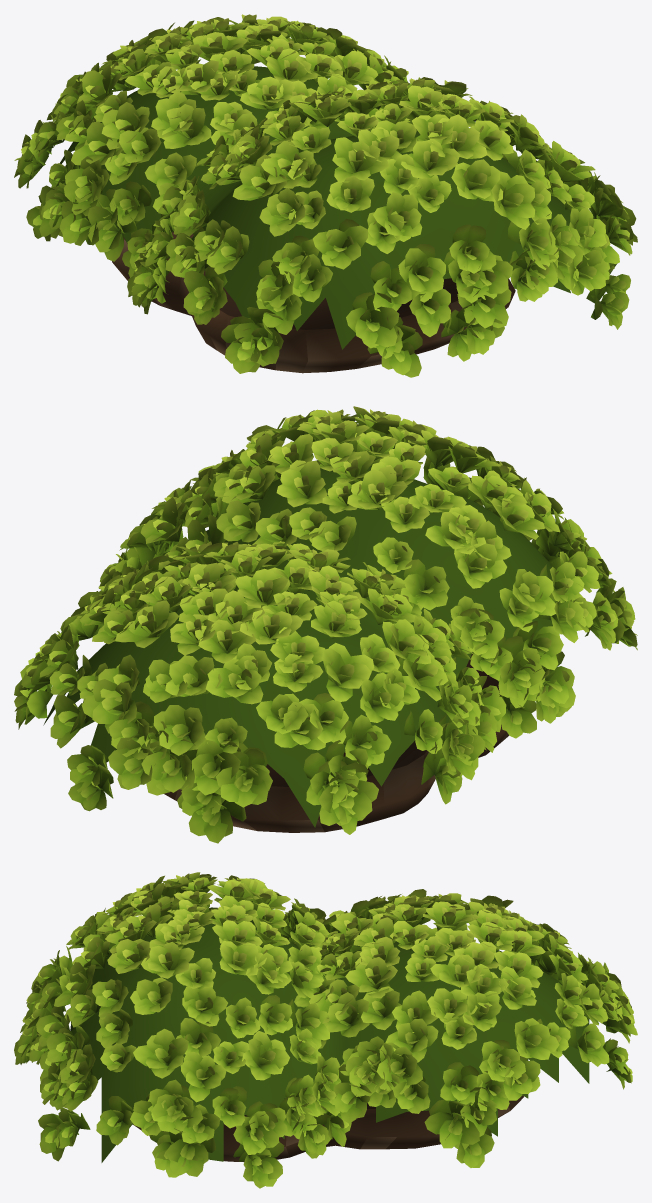
File: moss-tuft-3.glb
3 views of the same model, one above another, from view 1: azimuth 30°, elevation 25°; view 2: azimuth 150°, elevation 25°; view 3: azimuth 270°, elevation 25° (orthographic). The views are drawn at different scales.
Visible parts, largest first — view 1: lod0; view 2: lod0; view 3: lod0.
Boxes of the visible parts, box(x1,y1,x2,y2) form: lod0: box(14, 14, 637, 377); lod0: box(14, 406, 637, 843); lod0: box(14, 872, 637, 1188).
Size of what is drawn, in the model's own units: 0.7695 by 0.3848 by 1.
